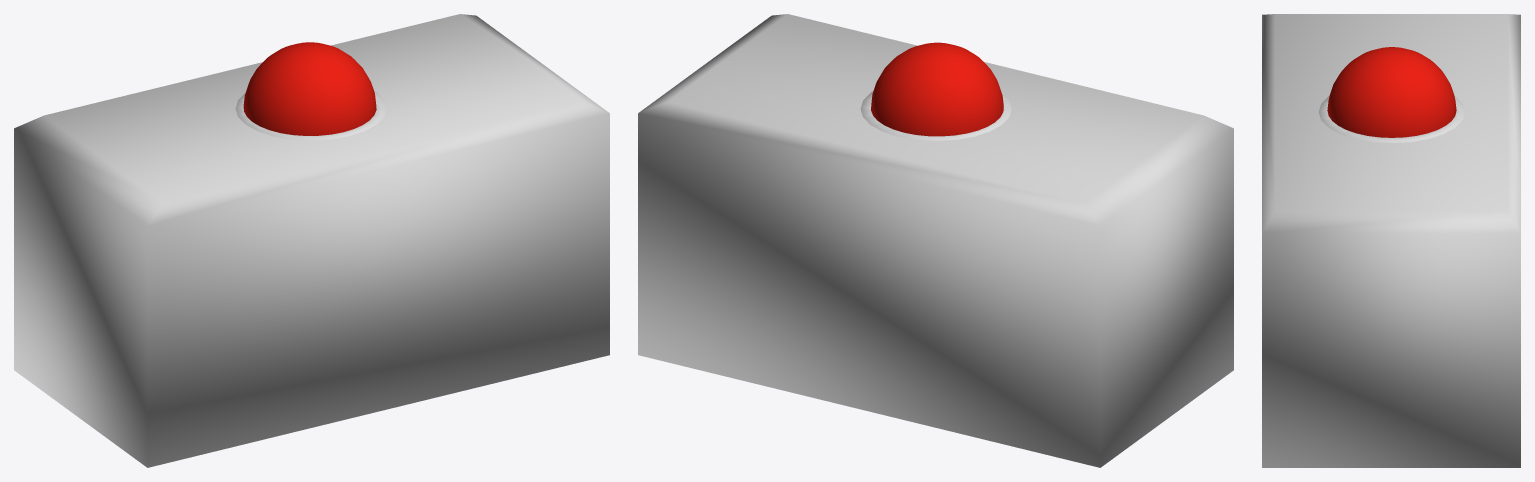
File: TheInternet.glb
The picture shows the model from 3 angles, left to right: view 1: azimuth 30°, elevation 25°; view 2: azimuth 150°, elevation 25°; view 3: azimuth 270°, elevation 25°; orthographic projection. The views are drawn at different scales.
Parts seen in each view (by area): view 1: Cube; view 2: Cube; view 3: Cube.
Part boxes in pixels (x1,y1,x2,y2): Cube: [14, 14, 609, 467]; Cube: [638, 14, 1233, 467]; Cube: [1262, 14, 1520, 467].
Size of the model in its own units: 4 by 2.6 by 2.
